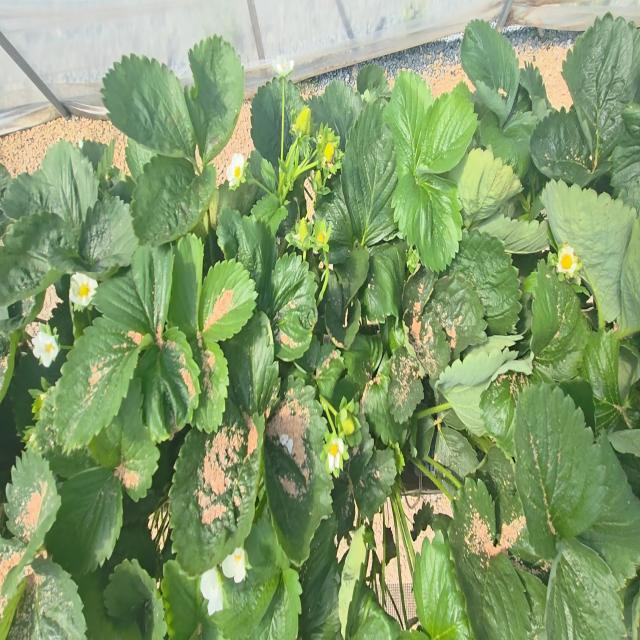Flowers: (200, 568, 223, 615), (324, 433, 349, 476), (69, 273, 98, 309), (32, 331, 59, 367), (222, 548, 247, 583), (555, 244, 579, 277), (226, 153, 245, 188)
Leaves: (169, 400, 264, 575), (514, 384, 607, 559), (37, 318, 140, 453), (448, 479, 530, 639), (263, 379, 332, 563), (563, 14, 640, 168), (101, 54, 196, 159), (577, 439, 640, 580), (90, 377, 160, 501), (46, 467, 123, 576), (340, 101, 397, 246), (546, 539, 626, 639), (130, 155, 216, 247), (185, 35, 244, 165), (95, 246, 173, 340), (450, 231, 521, 334), (49, 193, 138, 275), (392, 173, 462, 273), (139, 328, 200, 442), (4, 448, 61, 569), (413, 531, 473, 639), (8, 557, 87, 639), (260, 252, 317, 361), (0, 211, 64, 306), (461, 21, 519, 123), (218, 210, 276, 311), (223, 311, 279, 415), (383, 71, 434, 178), (198, 260, 256, 354), (348, 415, 397, 520), (103, 559, 167, 639), (418, 92, 476, 172), (168, 234, 203, 340), (310, 81, 362, 150), (362, 244, 406, 323), (193, 345, 229, 432), (338, 526, 366, 637), (361, 375, 406, 444), (409, 302, 449, 377), (387, 345, 424, 424), (251, 78, 282, 168), (435, 427, 479, 485), (0, 173, 49, 219), (346, 332, 383, 386), (251, 194, 287, 233), (285, 81, 304, 154), (440, 478, 459, 498)
Strawberries: (313, 219, 330, 252), (294, 106, 311, 136), (293, 218, 308, 245), (341, 414, 355, 435), (324, 142, 335, 163)
